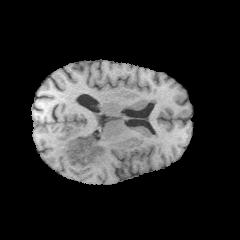glioma: (56, 128, 110, 174)
